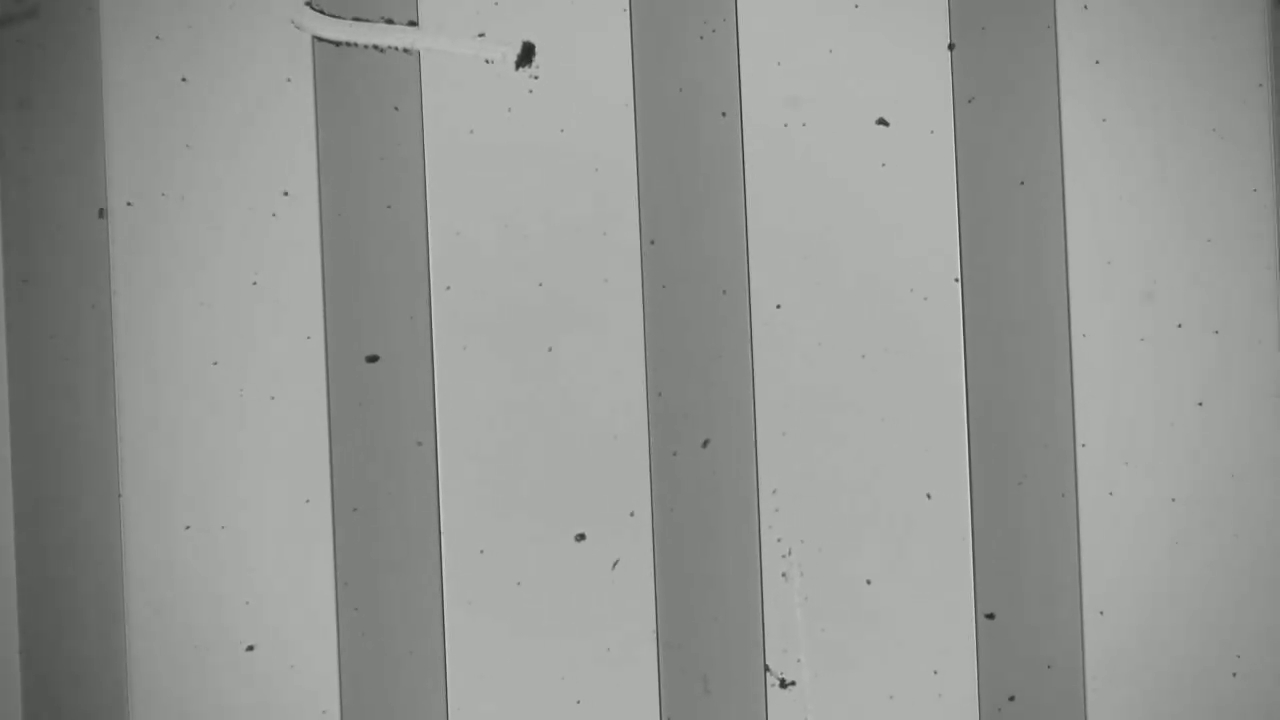Short_circuit: (275, 1, 457, 97)
